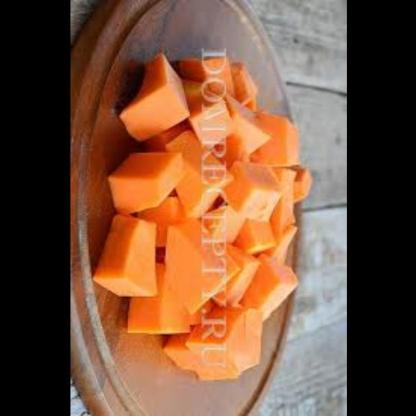pumpkin: (100, 42, 315, 386)
